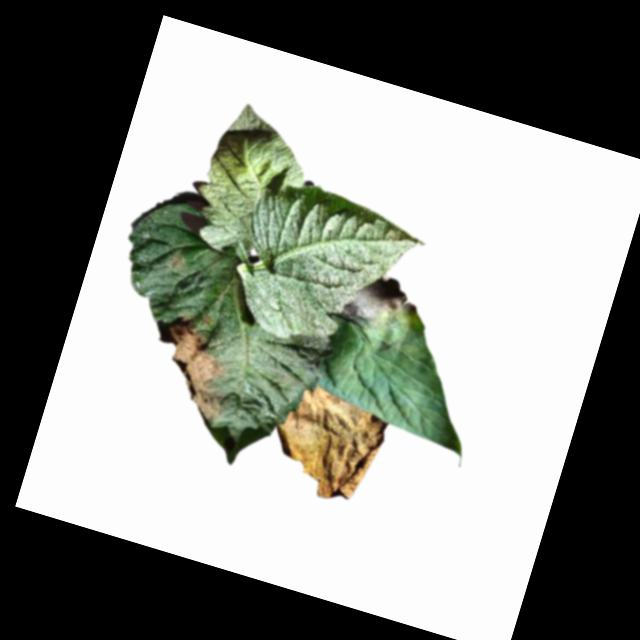Late_blight: (256, 376, 394, 511), (128, 305, 247, 431), (339, 267, 424, 340), (164, 250, 191, 277)
healthy: (219, 168, 432, 369), (184, 96, 321, 266)
